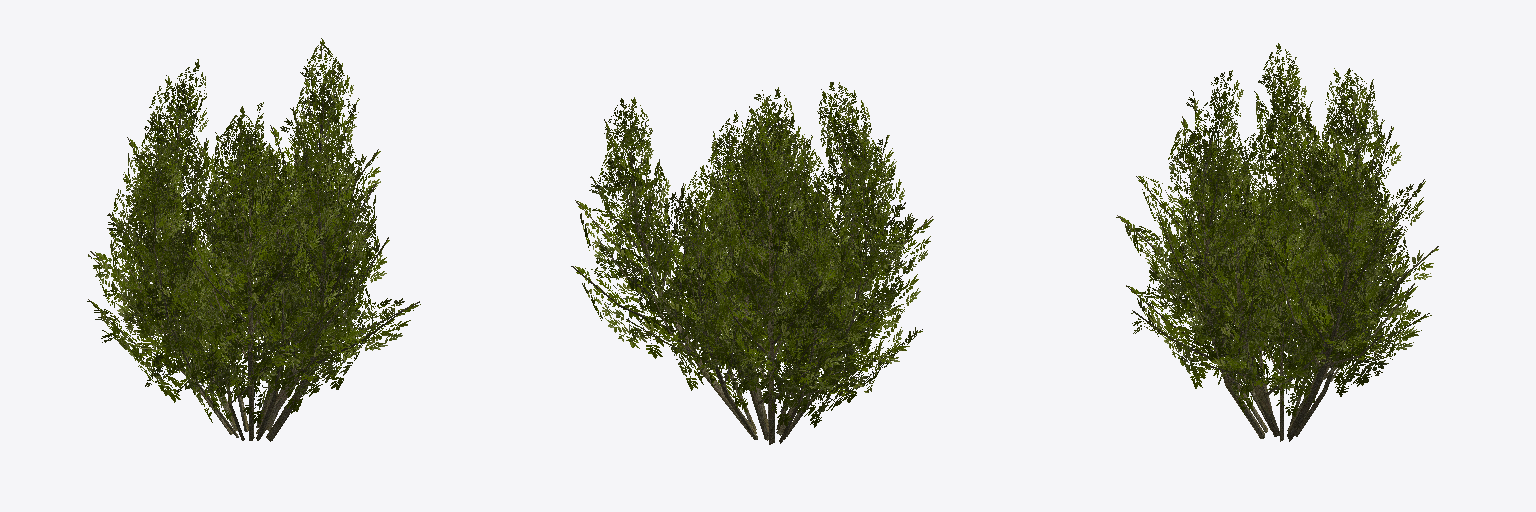
3 views of the same model, side by side, from view 1: azimuth 30°, elevation 25°; view 2: azimuth 150°, elevation 25°; view 3: azimuth 270°, elevation 25° (orthographic).
Visible parts, largest first — view 1: Foliage, Bark; view 2: Foliage, Bark; view 3: Foliage, Bark.
Part boxes in pixels (bbox=[...]): Foliage: bbox=[87, 38, 420, 423]; Bark: bbox=[88, 44, 419, 441]; Foliage: bbox=[575, 82, 933, 427]; Bark: bbox=[571, 82, 932, 444]; Foliage: bbox=[1116, 43, 1438, 416]; Bark: bbox=[1117, 48, 1438, 441].
Size of the model in its own units: 3.11 by 3 by 2.79.
Materials: 2 (2 with a texture image).